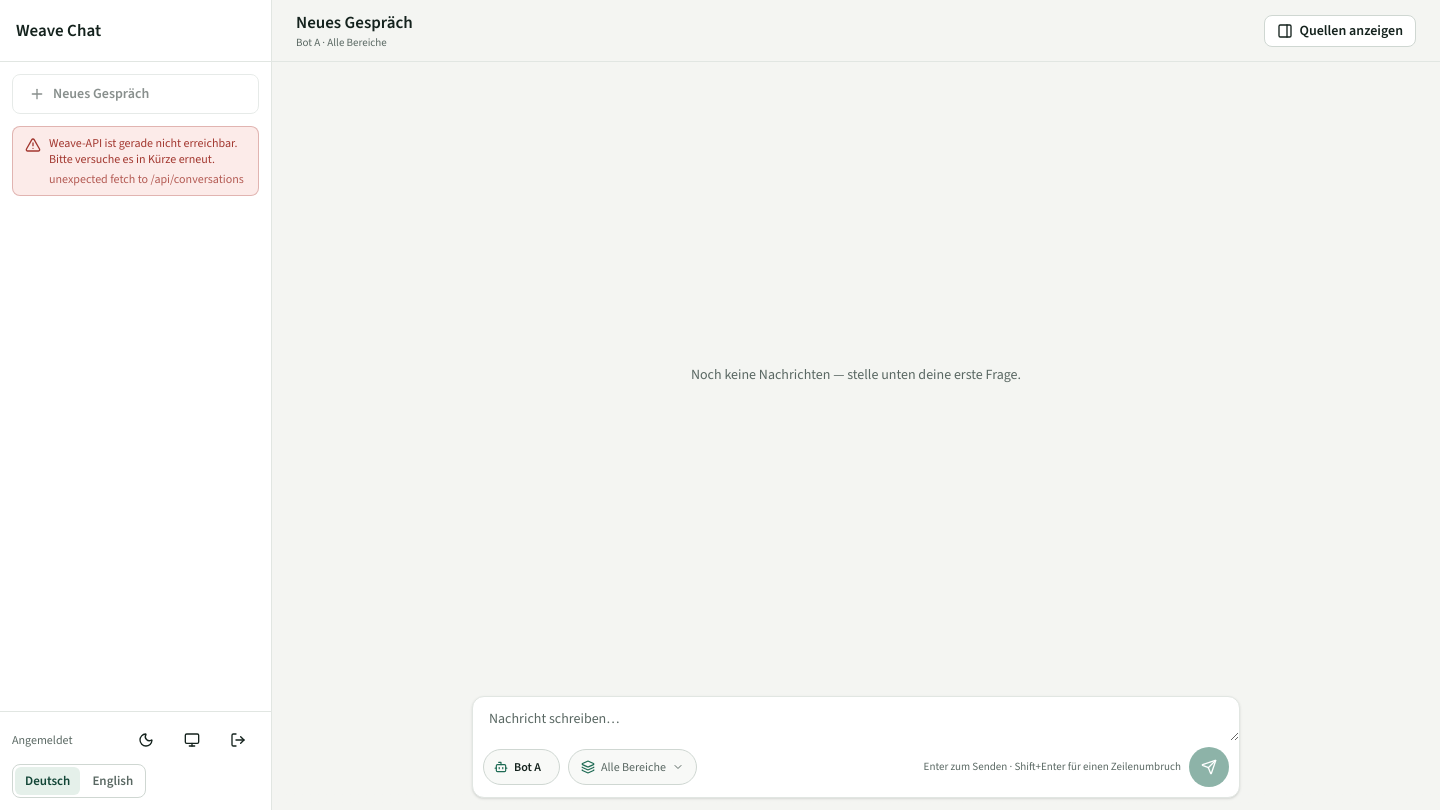
ChatApp turn lifecycle › re-enables the composer after starting a new conversation mid-turn
Type "Erste Frage" into the text box with placeholder "Nachricht schreiben…". click: (856, 719)
box: [473,697,1239,741]
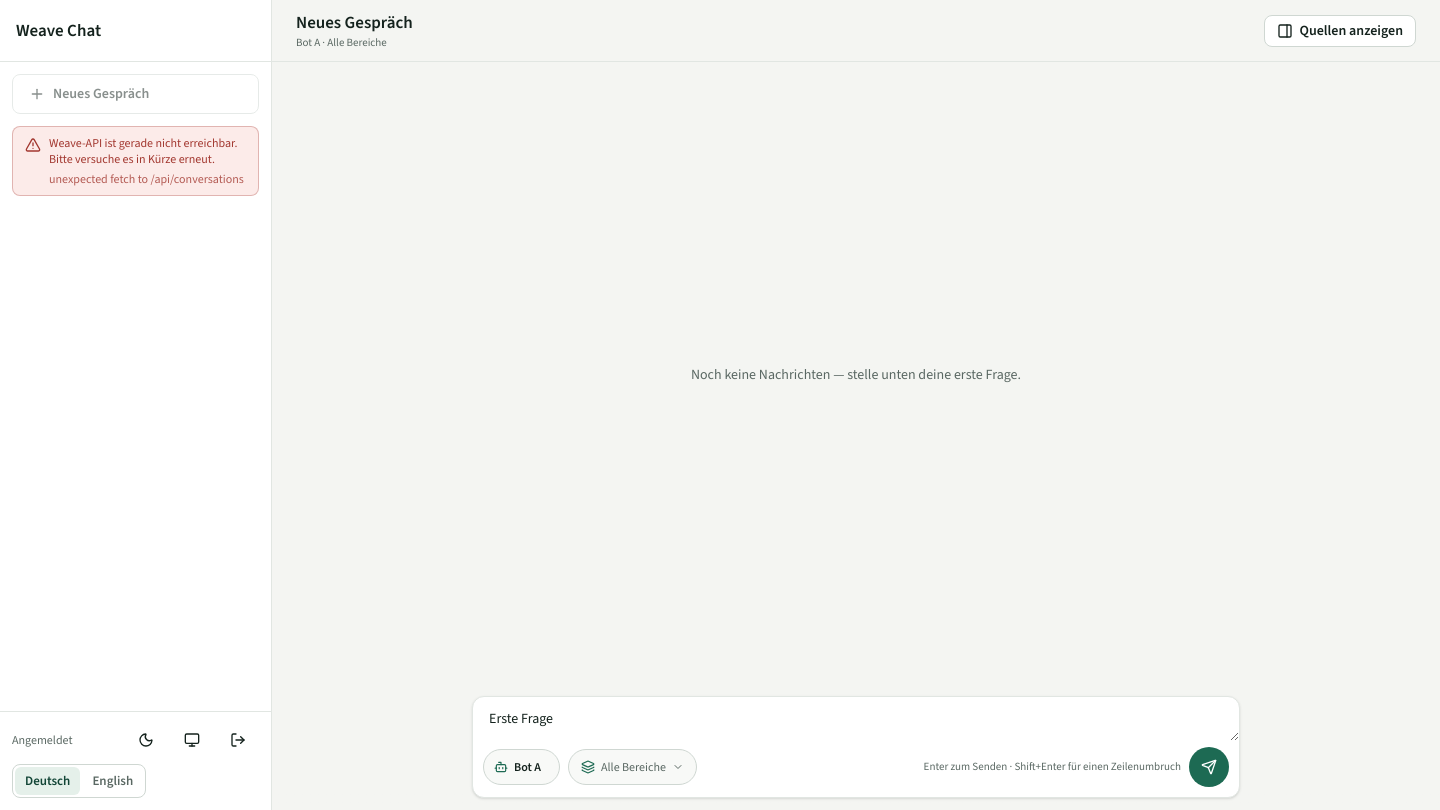
Click the button named "Nachricht senden". click: (1209, 767)
box: [1189,747,1229,787]
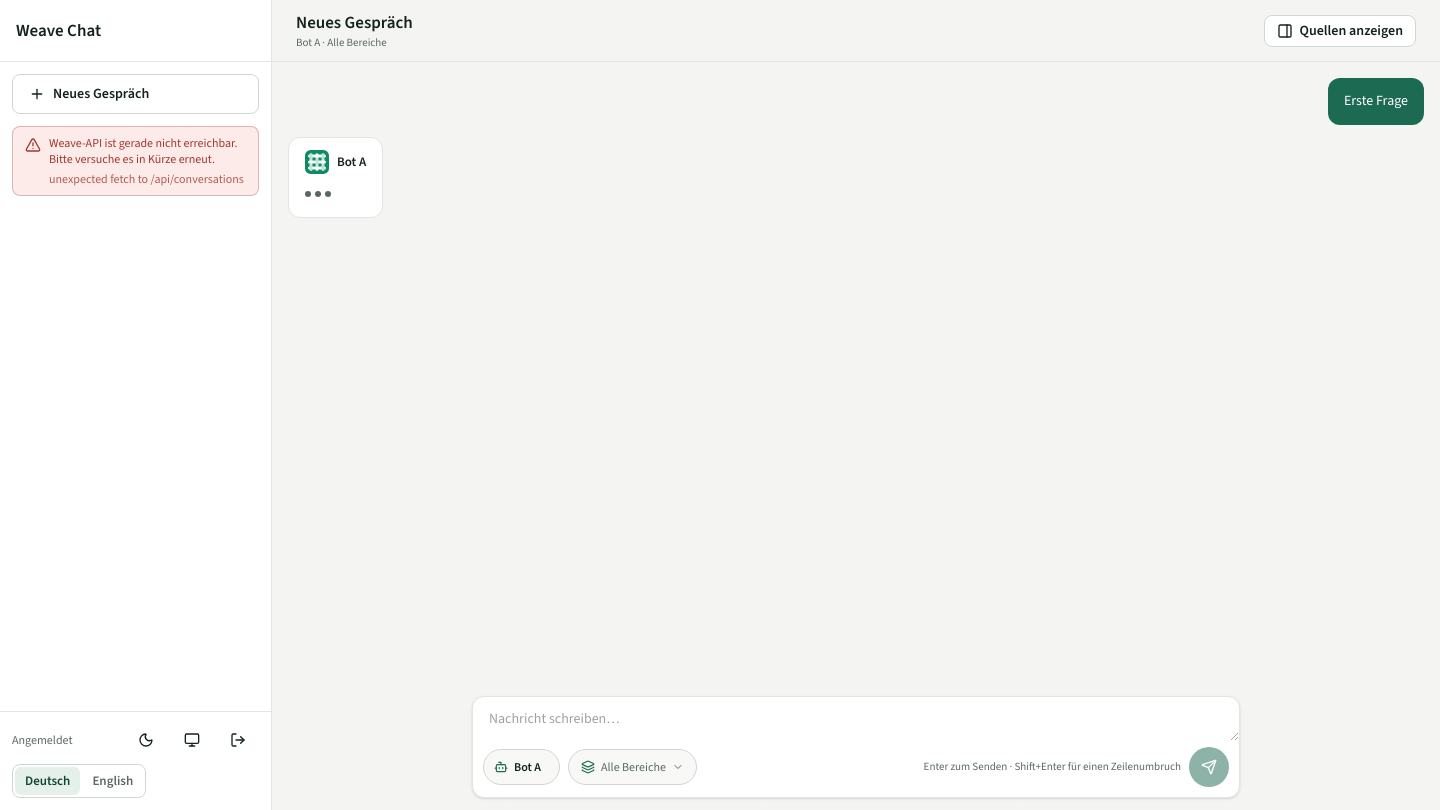
Now the text box with placeholder "Nachricht schreiben…" is disabled, box [473,697,1239,741]
Click the button "Neues Gespräch". click: (136, 94)
box: [12,74,259,114]
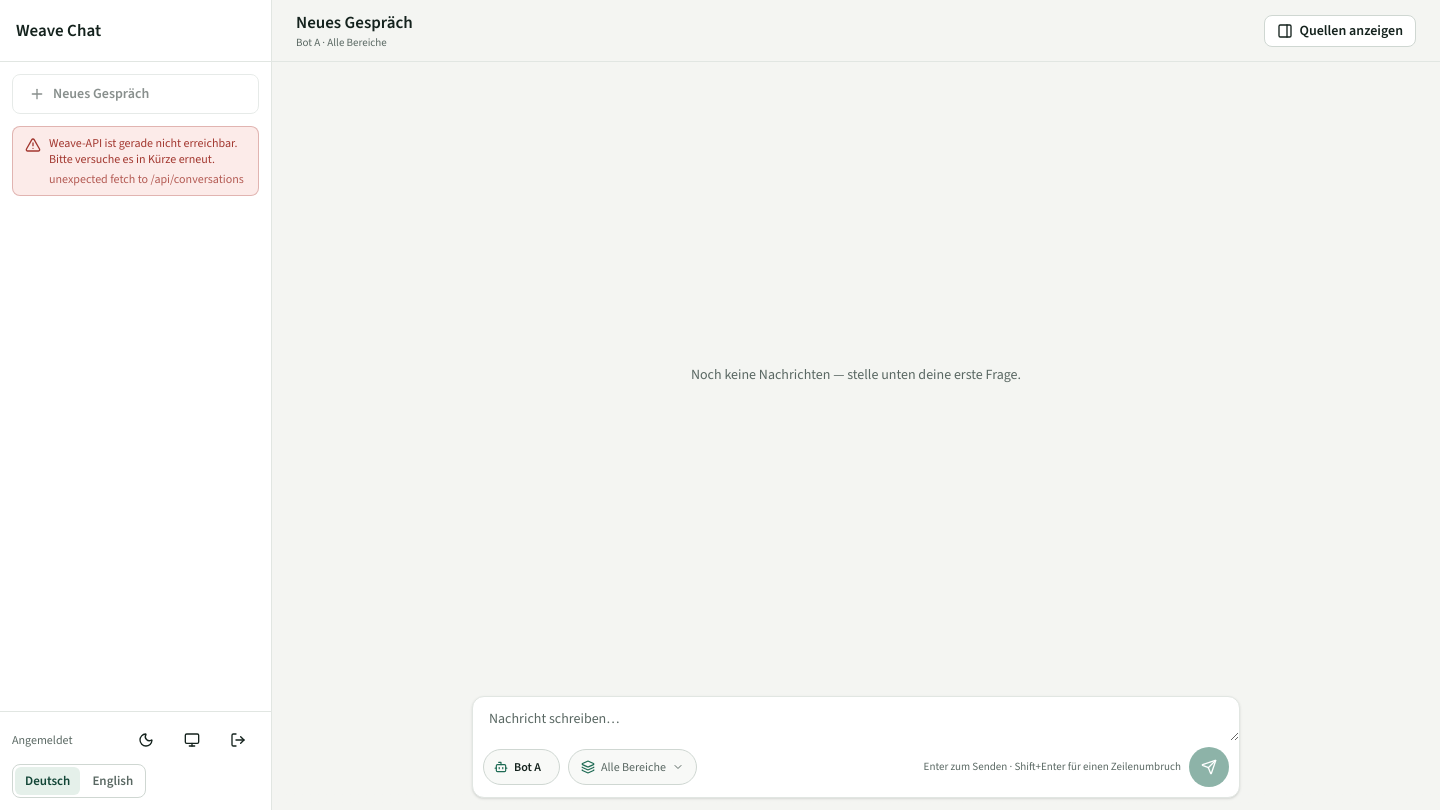
Now the text box with placeholder "Nachricht schreiben…" is enabled, box [473,697,1239,741]
